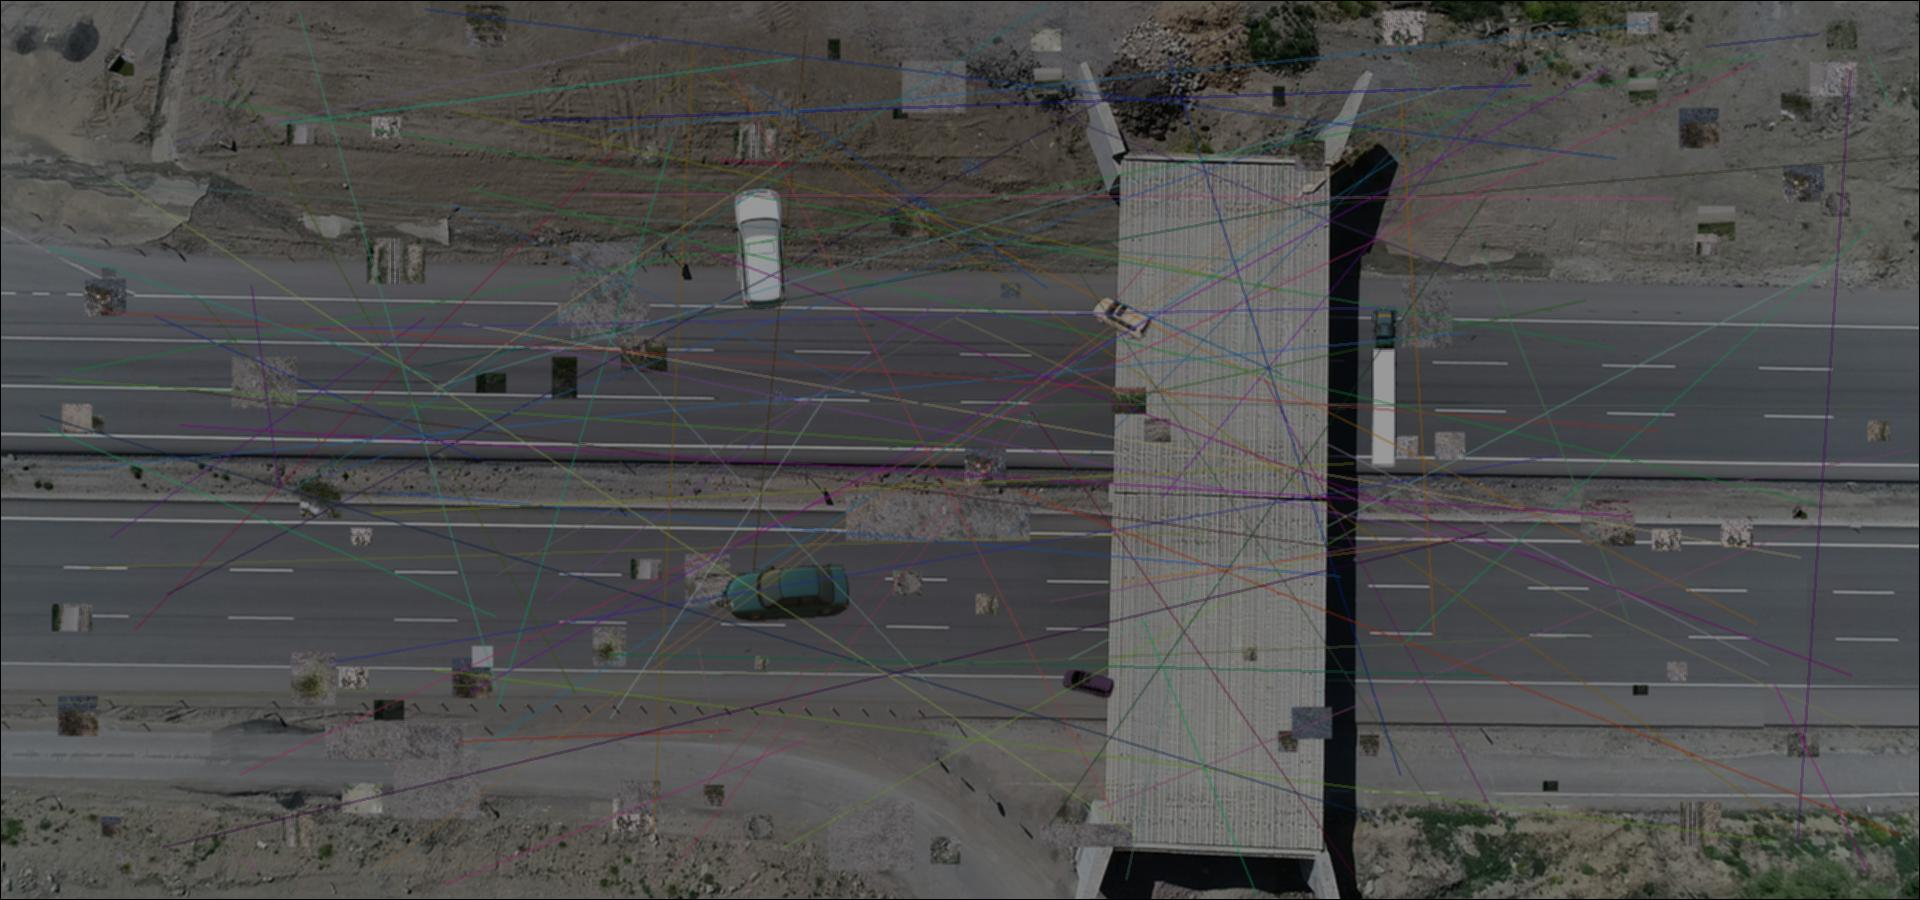arac: (726, 186, 793, 311), (722, 563, 849, 621), (1365, 309, 1404, 469), (1090, 294, 1152, 340), (1062, 667, 1116, 702)
